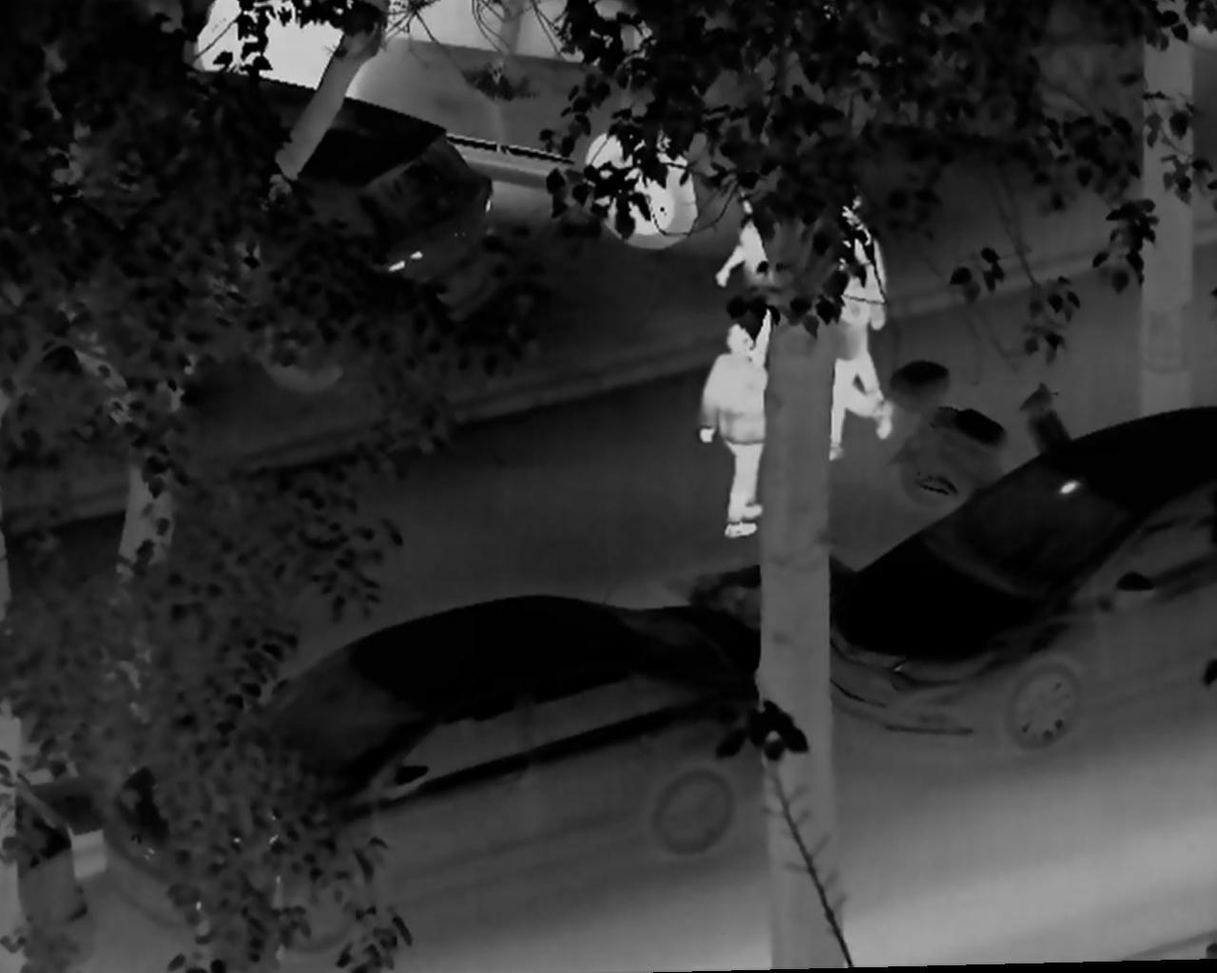person: (695, 319, 779, 541), (817, 241, 894, 466), (717, 188, 789, 388), (830, 189, 890, 398)
